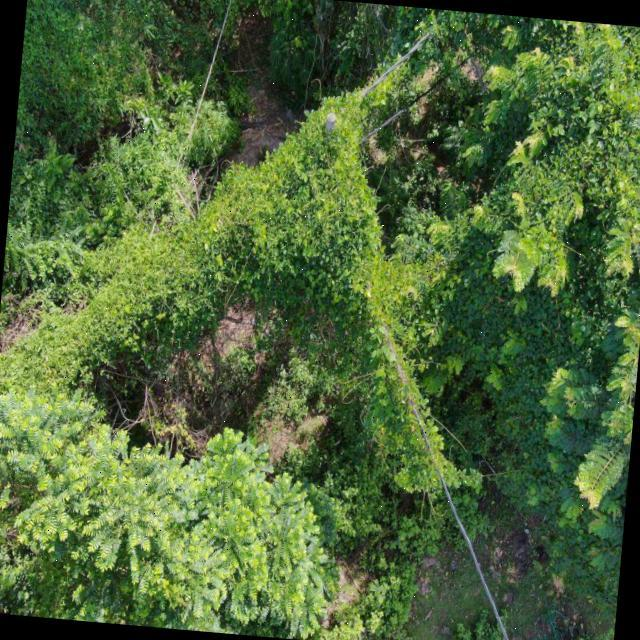critical vegetation: (39, 74, 416, 376)
